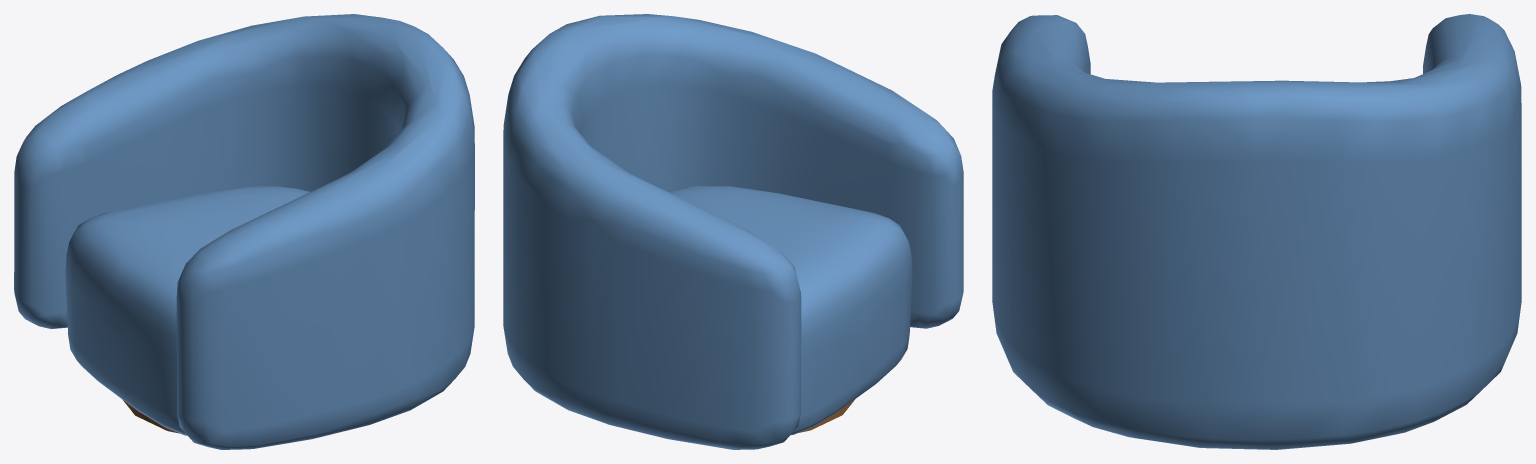
Rendered from armchair_04_blue.fbx.
3 renders of one model, left to right at view 1: azimuth 30°, elevation 25°; view 2: azimuth 150°, elevation 25°; view 3: azimuth 270°, elevation 25°, orthographic. The views are drawn at different scales.
Parts seen in each view (by area): view 1: armchair_04_blue; view 2: armchair_04_blue; view 3: armchair_04_blue.
Part boxes in pixels (x1,y1,x2,y2): armchair_04_blue: (14, 14, 474, 449); armchair_04_blue: (503, 14, 963, 449); armchair_04_blue: (992, 14, 1521, 449).
Bounding box in the file's own units: 115 × 99.69 × 122.
2 materials, 2 textured.
